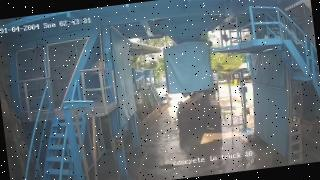cement_mixer_truck: (176, 69, 220, 130)
